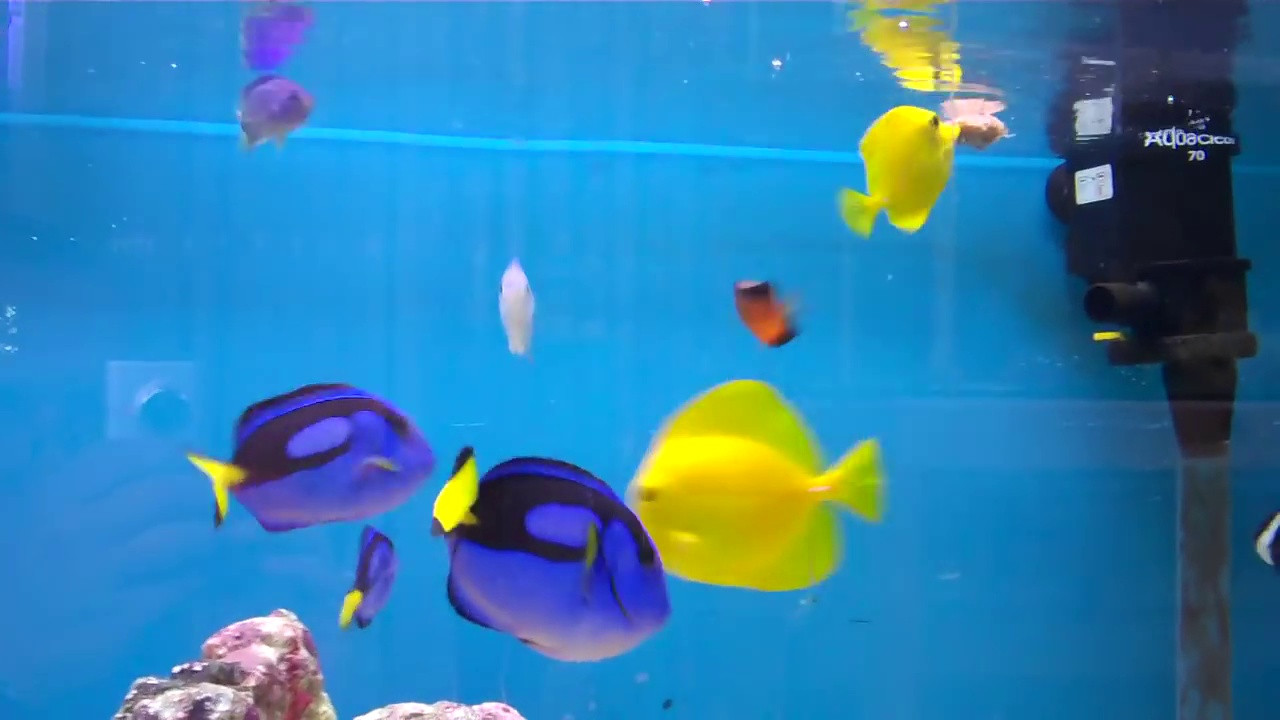blue tang surgeonfish: (442, 443, 678, 676), (170, 379, 437, 539), (345, 521, 397, 641)
saddle butterfly fish: (602, 391, 883, 589), (829, 84, 968, 242)
